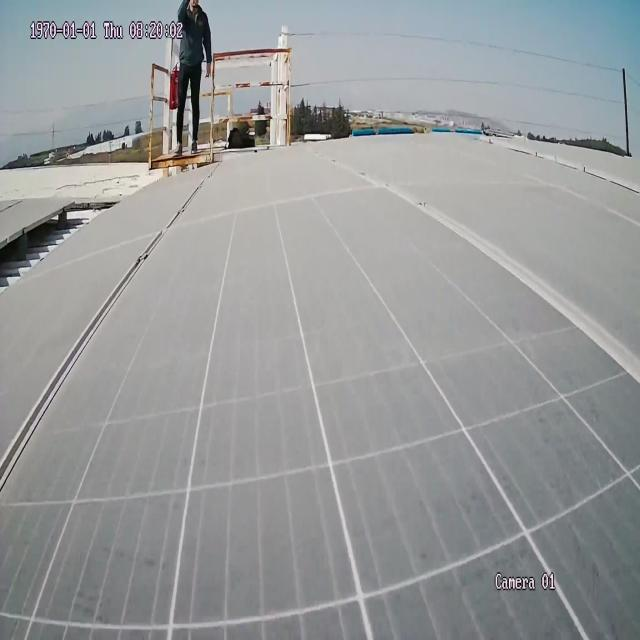interior panel: (310, 142, 640, 410), (0, 153, 229, 517)
outher panel: (0, 195, 125, 308)
